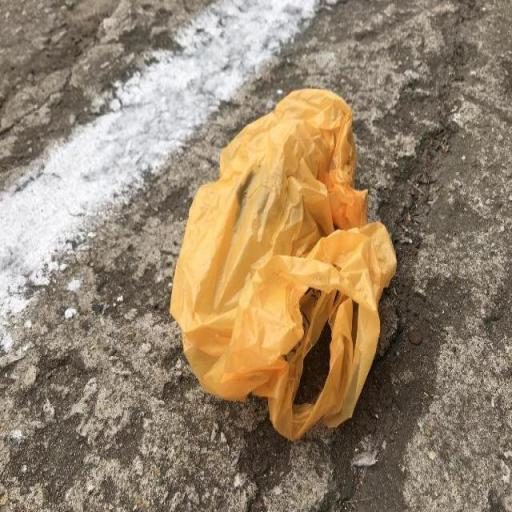plastic-bag: (170, 93, 402, 450)
